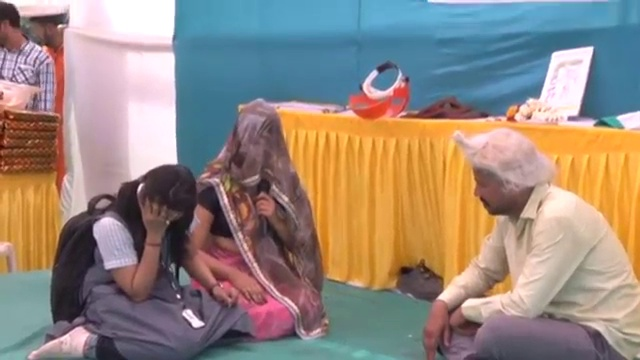helmet: (0, 79, 43, 116)
helmet_off: (464, 133, 547, 226), (125, 166, 195, 235), (226, 103, 286, 177), (22, 3, 63, 48), (0, 0, 21, 51)
person: (410, 127, 640, 360), (32, 167, 238, 349), (182, 105, 322, 341), (0, 3, 65, 135), (0, 3, 66, 115)
